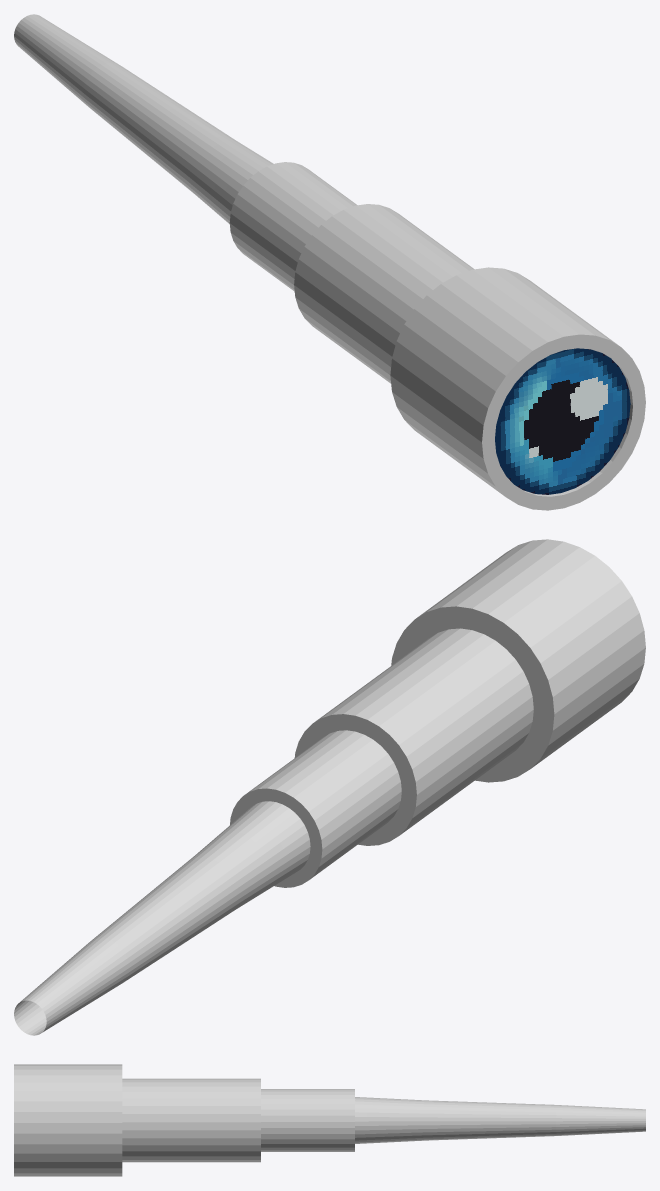
Rendered from Telescopio.fbx.
3 renders of one model, top to bottom at view 1: azimuth 30°, elevation 25°; view 2: azimuth 150°, elevation 25°; view 3: azimuth 270°, elevation 25°, orthographic. The views are drawn at different scales.
Parts seen in each view (by area): view 1: Telescopio.001; view 2: Telescopio.001; view 3: Telescopio.001.
Part boxes in pixels (box(x1,y1,x2,y2)): Telescopio.001: box(14, 14, 645, 510); Telescopio.001: box(14, 539, 645, 1035); Telescopio.001: box(14, 1064, 645, 1176).
Bounding box in the file's own units: 8.85 × 49.86 × 8.85.
2 materials, 1 textured.
